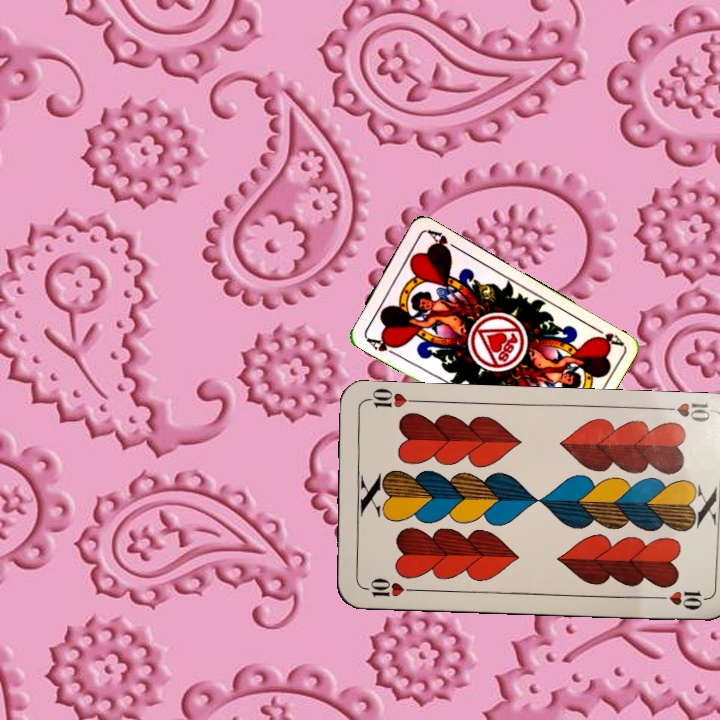H10: (358, 574, 417, 600), (655, 399, 714, 424)
HA: (587, 322, 625, 349), (362, 333, 402, 358)
